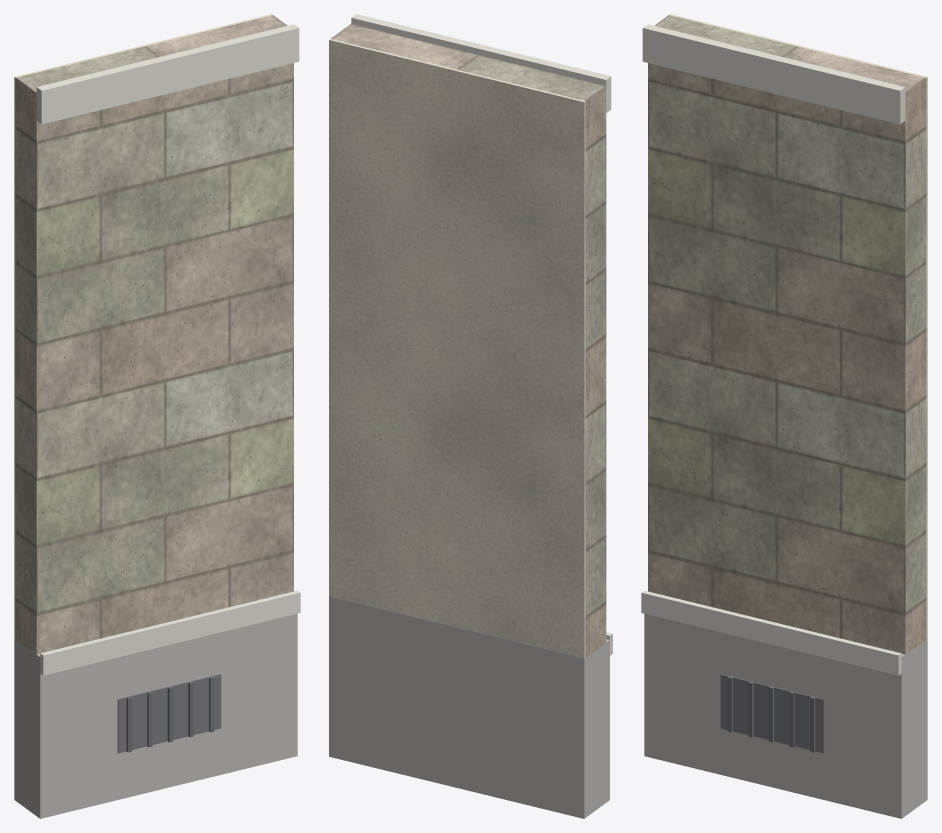
File: lib_wall_plain.glb
The picture shows the model from 3 angles, left to right: view 1: azimuth 30°, elevation 25°; view 2: azimuth 150°, elevation 25°; view 3: azimuth 330°, elevation 25°; orthographic projection.
Parts seen in each view (by area): view 1: lib_wall_plain_stone, lib_wall_plain_granite, lib_wall_plain_cornice, lib_wall_plain_dark, lib_wall_plain_iron, lib_wall_plain_plaster; view 2: lib_wall_plain_plaster, lib_wall_plain_granite, lib_wall_plain_stone, lib_wall_plain_cornice; view 3: lib_wall_plain_stone, lib_wall_plain_granite, lib_wall_plain_cornice, lib_wall_plain_dark, lib_wall_plain_iron, lib_wall_plain_plaster.
Boxes of the visible parts, left/top/right/bottom form: lib_wall_plain_stone: left=15, top=15, right=293, bottom=654; lib_wall_plain_granite: left=14, top=613, right=297, bottom=818; lib_wall_plain_cornice: left=36, top=24, right=300, bottom=675; lib_wall_plain_dark: left=117, top=674, right=221, bottom=753; lib_wall_plain_iron: left=126, top=676, right=214, bottom=752; lib_wall_plain_plaster: left=14, top=14, right=272, bottom=638; lib_wall_plain_plaster: left=329, top=39, right=585, bottom=658; lib_wall_plain_granite: left=329, top=596, right=609, bottom=818; lib_wall_plain_stone: left=331, top=24, right=606, bottom=657; lib_wall_plain_cornice: left=351, top=14, right=612, bottom=655; lib_wall_plain_stone: left=648, top=15, right=926, bottom=654; lib_wall_plain_granite: left=644, top=613, right=927, bottom=818; lib_wall_plain_cornice: left=641, top=24, right=905, bottom=675; lib_wall_plain_dark: left=720, top=674, right=824, bottom=753; lib_wall_plain_iron: left=727, top=676, right=815, bottom=752; lib_wall_plain_plaster: left=669, top=14, right=927, bottom=638.
Size of the model in its own units: 2 by 5.41 by 0.39.
Materials: 6 (2 with a texture image).
